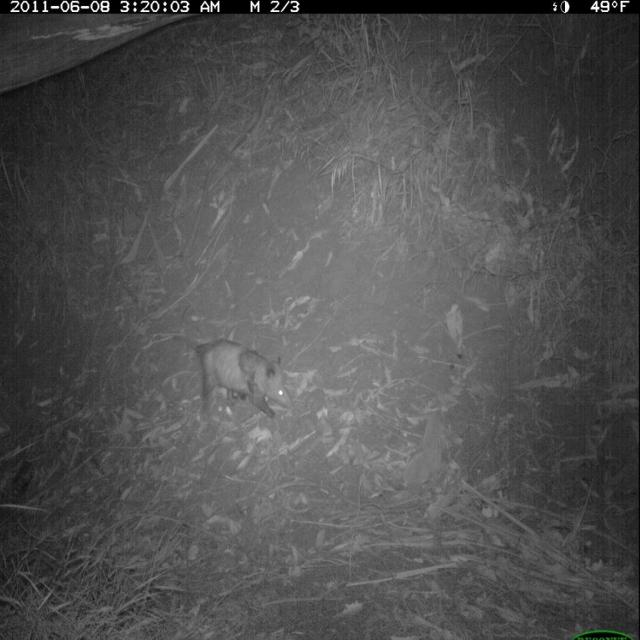opossum: (172, 323, 297, 428)
